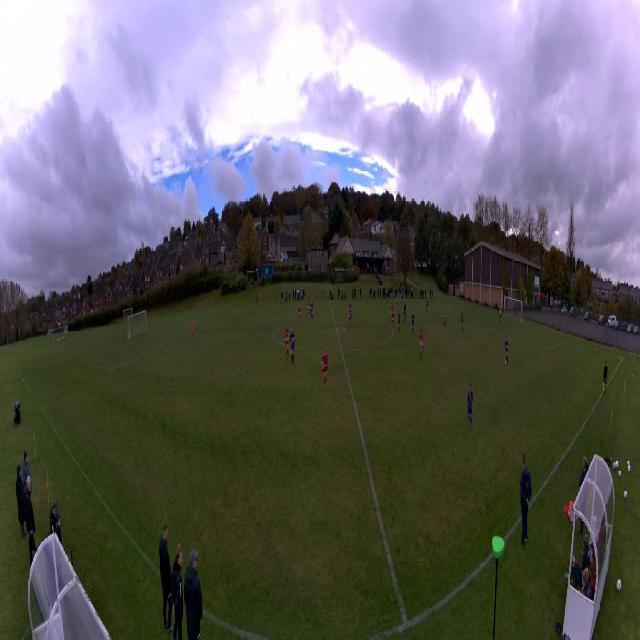ball: (505, 361, 507, 367)
player: (320, 347, 330, 391), (467, 382, 474, 428), (290, 328, 296, 364), (284, 323, 290, 359), (419, 329, 424, 361), (504, 338, 509, 364), (347, 305, 351, 330), (411, 312, 415, 336), (391, 306, 395, 330), (298, 305, 302, 327), (397, 312, 401, 332), (349, 300, 353, 320), (190, 321, 194, 339), (444, 307, 447, 327), (403, 304, 406, 324), (461, 312, 464, 332), (310, 301, 313, 320), (395, 290, 398, 308), (307, 300, 310, 317), (499, 307, 502, 324), (425, 299, 428, 314), (391, 304, 394, 319), (401, 290, 403, 304)
